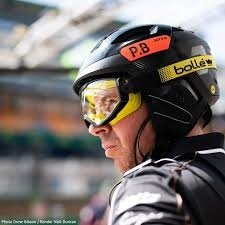safety_goggles: (60, 80, 135, 126)
